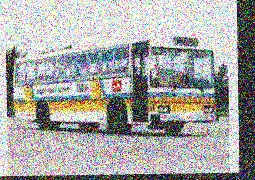bus: (12, 34, 217, 139)
